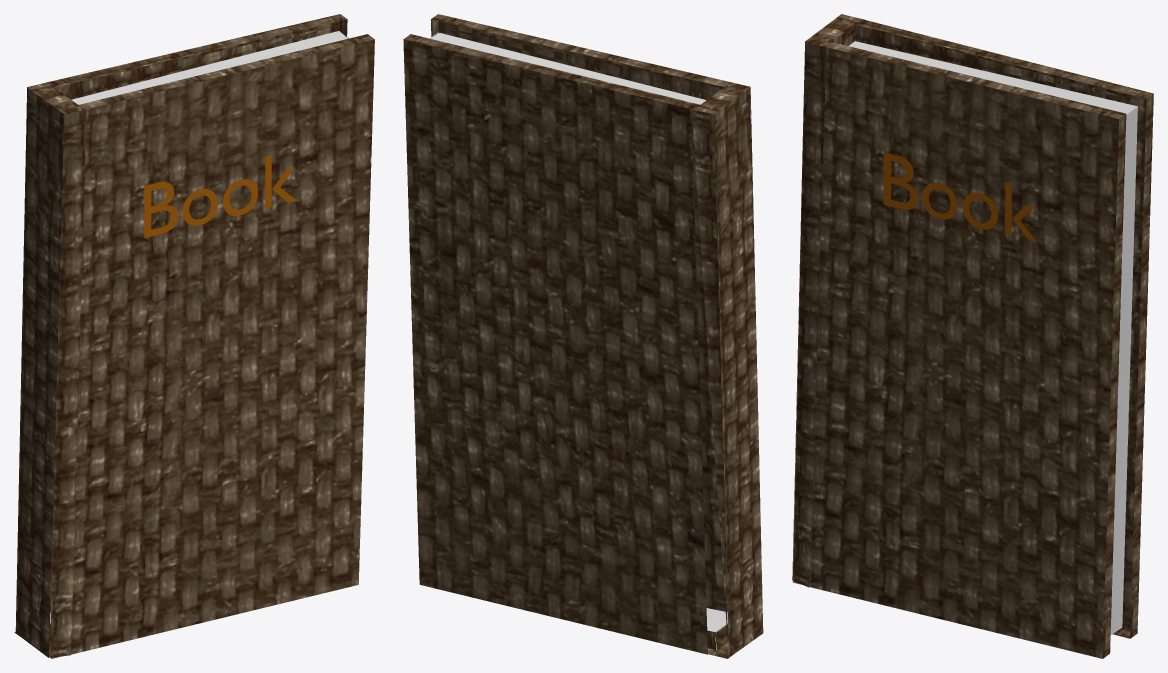
File: Book1.fbx
3 renders of one model, left to right at view 1: azimuth 30°, elevation 25°; view 2: azimuth 150°, elevation 25°; view 3: azimuth 330°, elevation 25°, orthographic.
Parts seen in each view (by area): view 1: Book2, Text; view 2: Book2; view 3: Book2, Text.
Boxes of the visible parts, left/top/right/bottom form: Book2: left=14, top=14, right=374, bottom=658; Text: left=144, top=155, right=296, bottom=237; Book2: left=403, top=14, right=763, bottom=658; Book2: left=792, top=14, right=1153, bottom=658; Text: left=883, top=152, right=1036, bottom=241.
Bounding box in the file's own units: 19.66 × 31.35 × 4.02.
3 materials, 1 textured.
